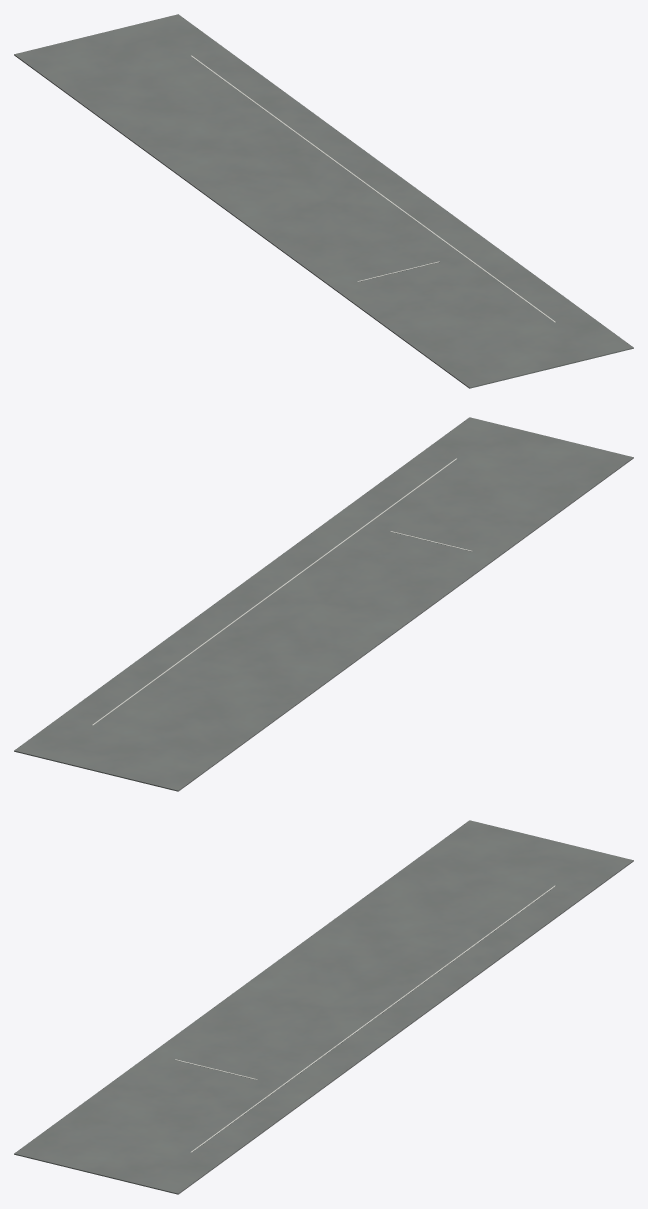
Rendered from SteelPlate.fbx.
3 renders of one model, top to bottom at view 1: azimuth 30°, elevation 25°; view 2: azimuth 150°, elevation 25°; view 3: azimuth 330°, elevation 25°, orthographic.
Parts seen in each view (by area): view 1: SteelPlate_LOD0; view 2: SteelPlate_LOD0; view 3: SteelPlate_LOD0.
Boxes of the visible parts, x1,y1,x2,y2 form: SteelPlate_LOD0: (14,14,633,388); SteelPlate_LOD0: (14,417,633,791); SteelPlate_LOD0: (14,820,633,1194).
Size of what is drawn, in the model's own units: 2.5 by 0.0158 by 12.
Materials: 1 (1 with a texture image).
